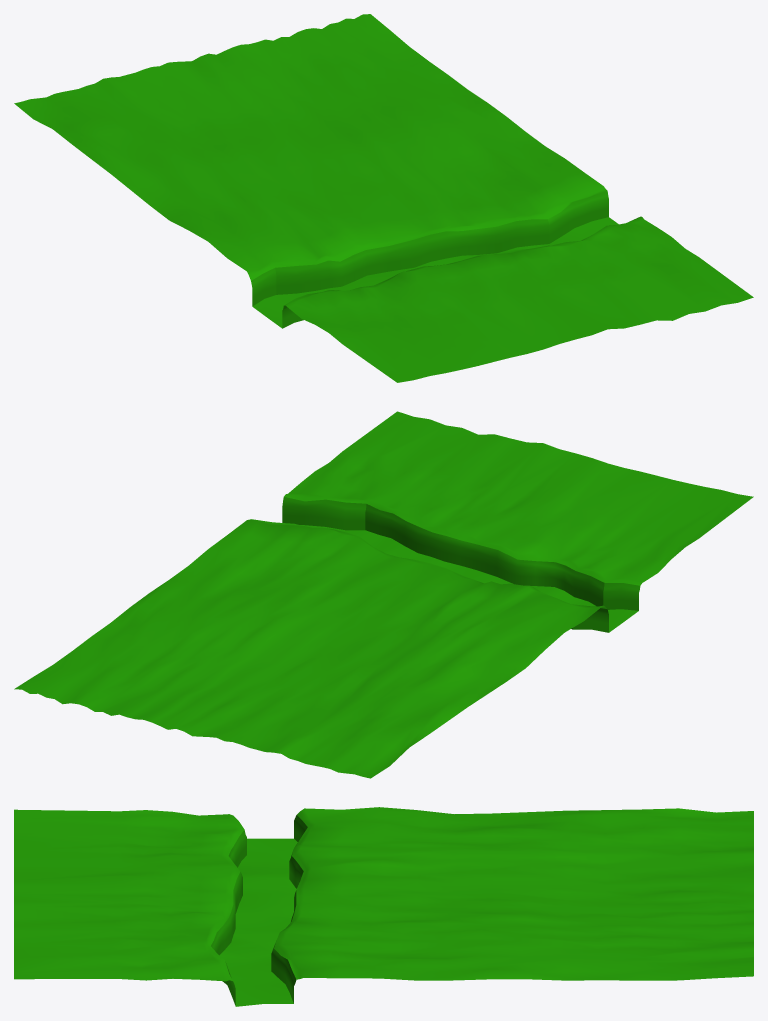
The model's file is Orman.Zemin (1).fbx.
3 views of the same model, one above another, from view 1: azimuth 30°, elevation 25°; view 2: azimuth 150°, elevation 25°; view 3: azimuth 270°, elevation 25° (orthographic). The views are drawn at different scales.
Parts seen in each view (by area): view 1: Plane001; view 2: Plane001; view 3: Plane001.
Part boxes in pixels (x1=…): Plane001: x1=14, y1=14, x2=753, y2=382; Plane001: x1=14, y1=411, x2=753, y2=778; Plane001: x1=14, y1=807, x2=753, y2=1006.
Size of the model in its own units: 140 by 13.75 by 261.
